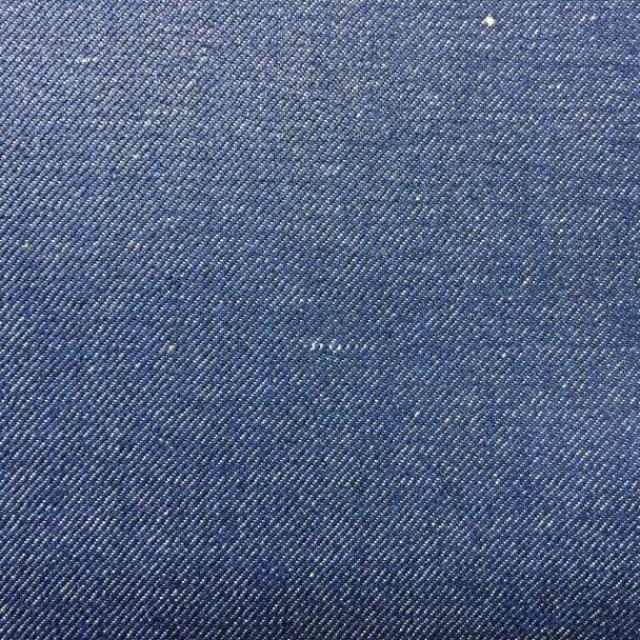Knot: (302, 341, 369, 354), (483, 15, 498, 27)
